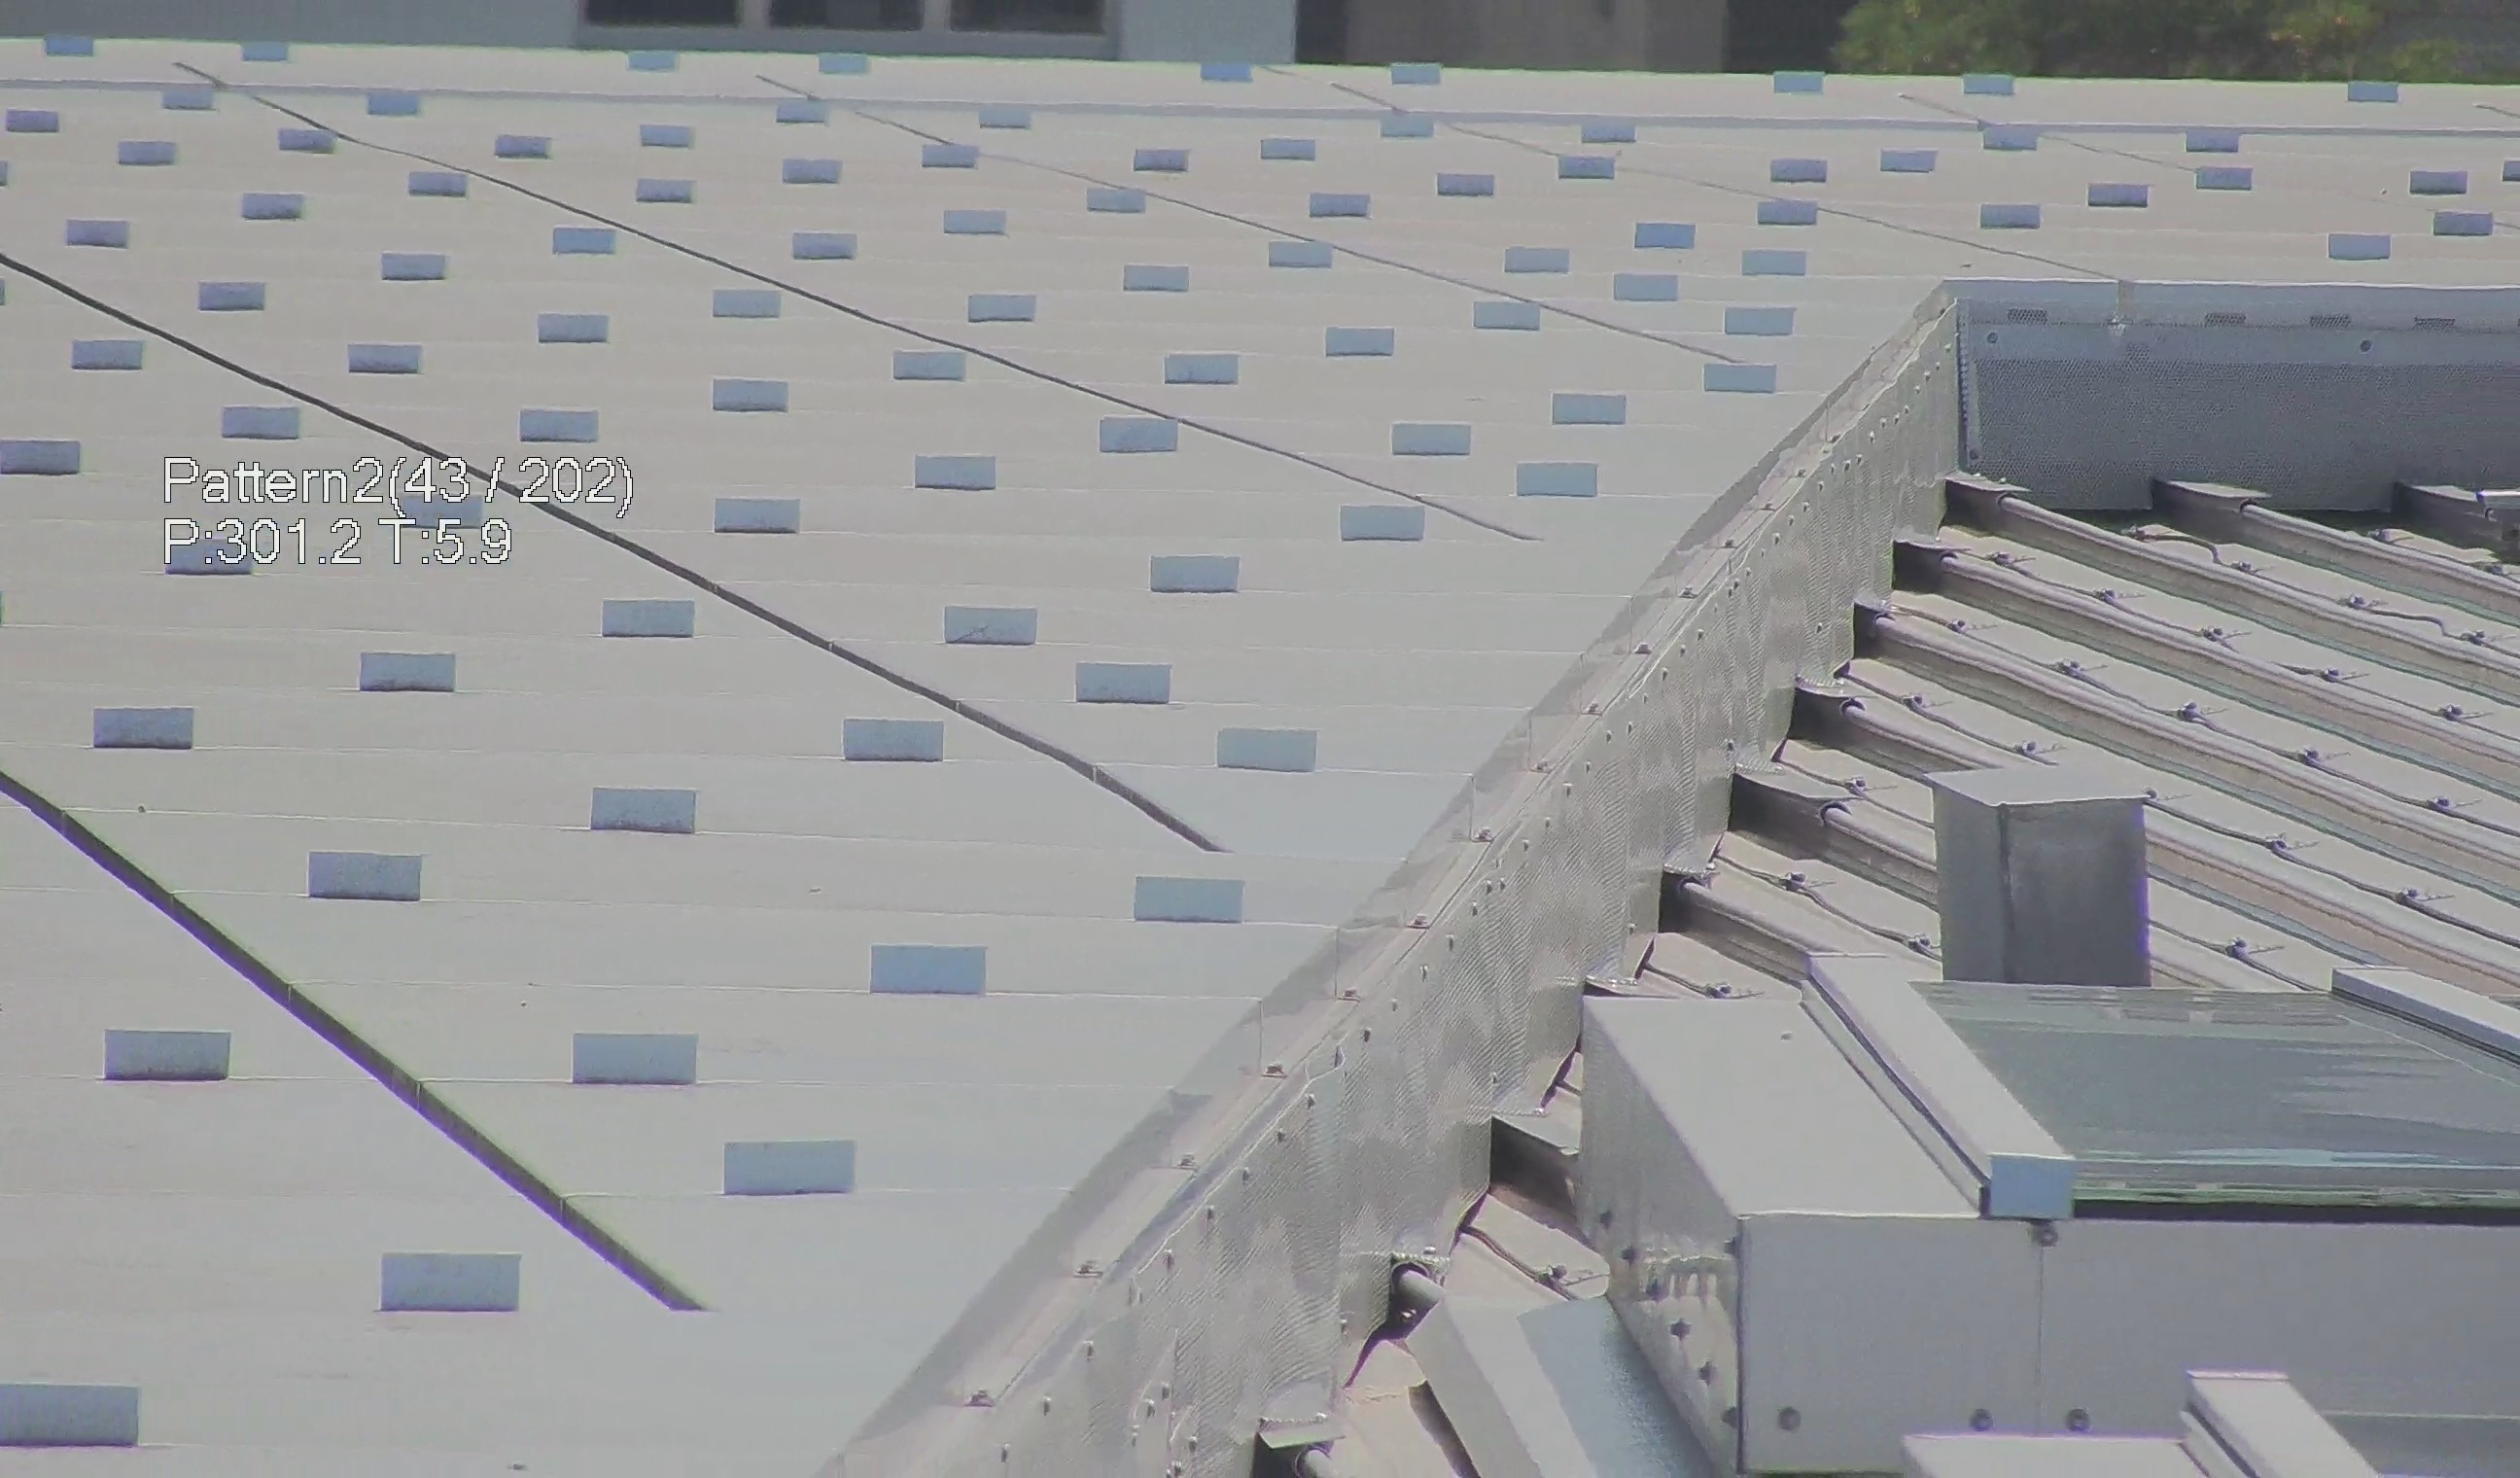Other: (1345, 1233, 1474, 1406)
